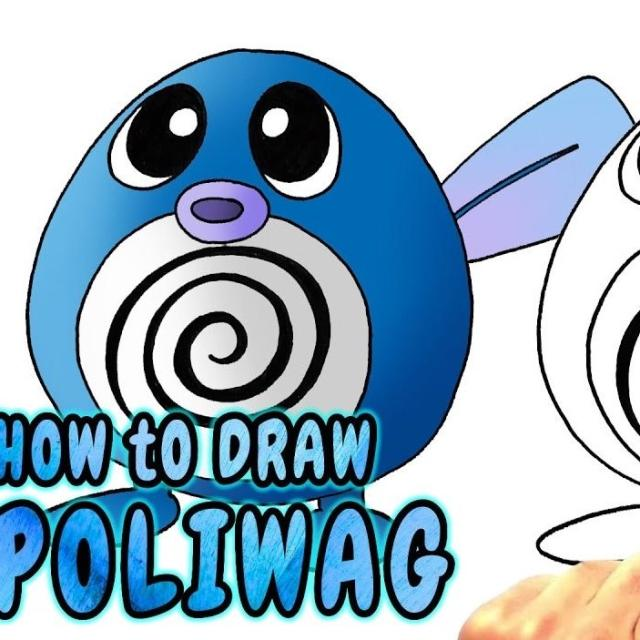Poliwag: (30, 42, 477, 482)
